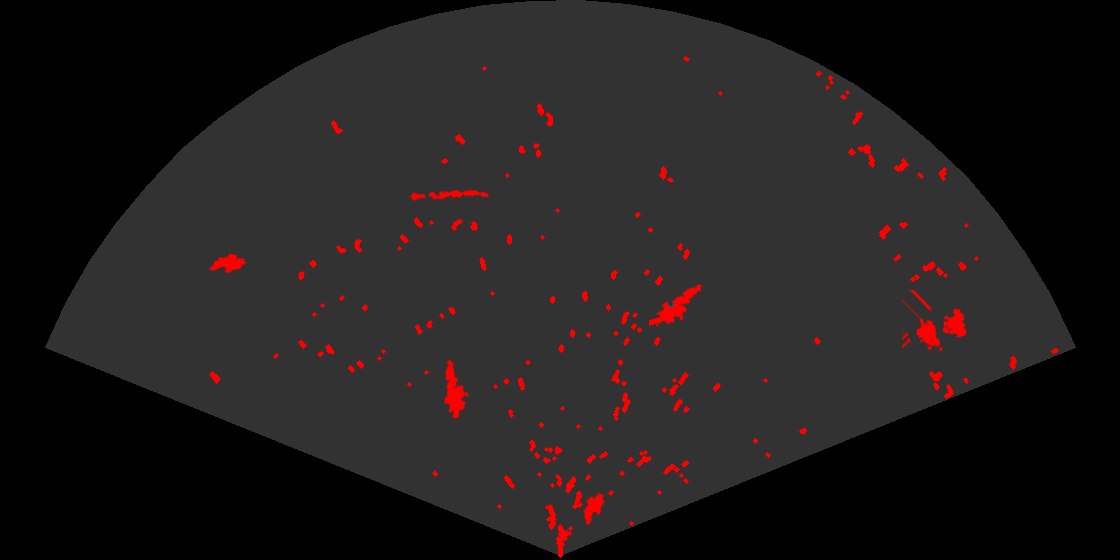AUV: (208, 252, 248, 275), (582, 491, 606, 527)
cage: (902, 290, 969, 353)
chain: (408, 188, 489, 202)
frogman: (649, 283, 704, 328), (442, 358, 471, 418)
